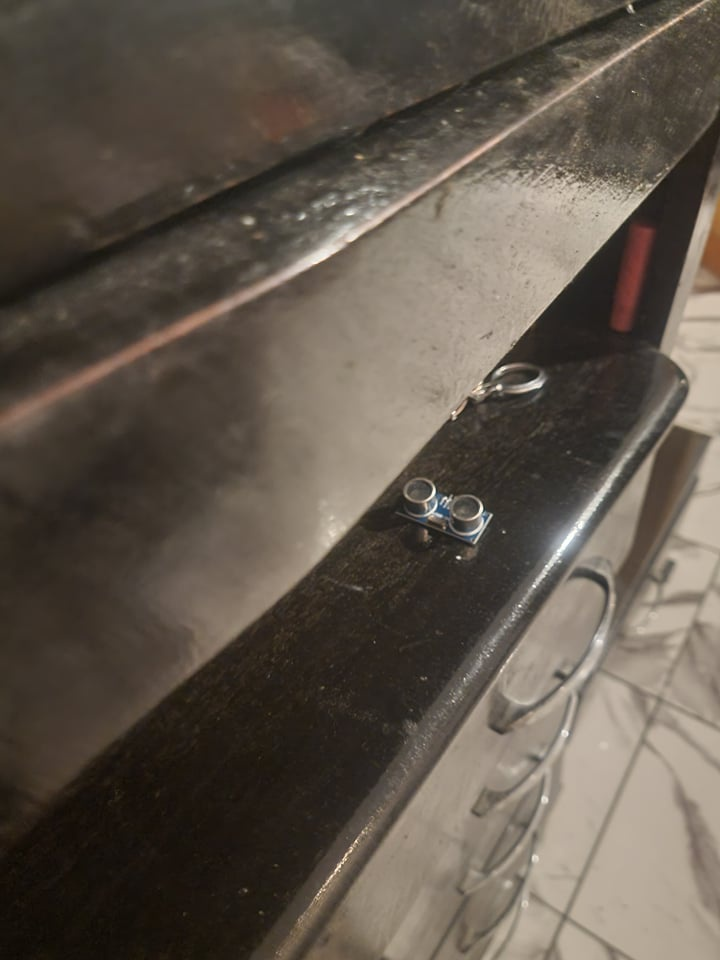SENSOR: (394, 475, 495, 545)
